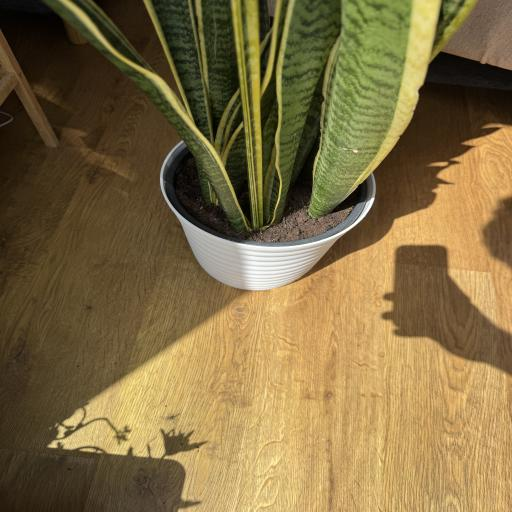Plant Pot: (158, 132, 379, 290)
